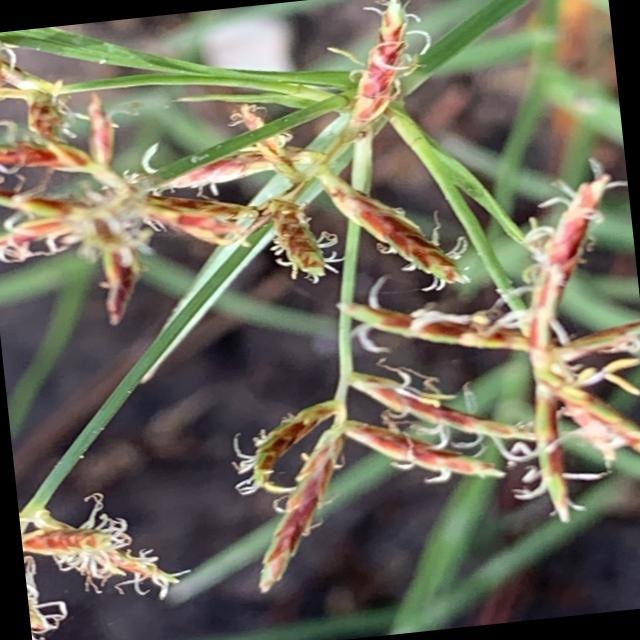cyperus: (0, 0, 640, 640), (219, 136, 640, 551), (0, 0, 478, 332), (13, 446, 179, 640)
